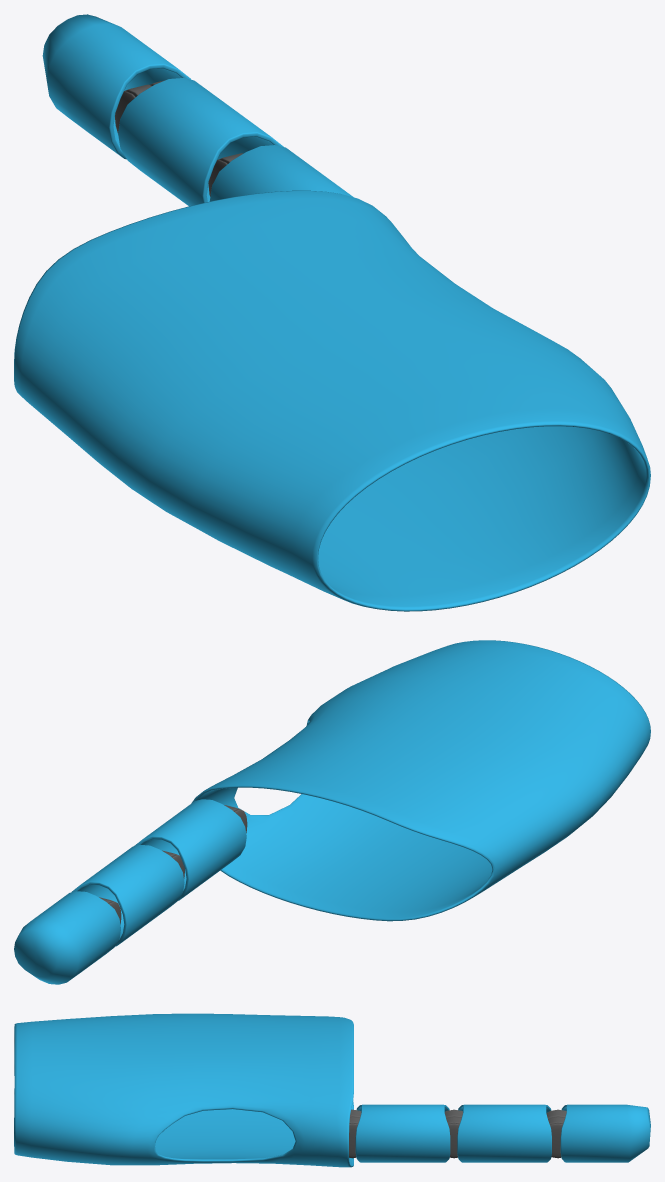
File: RobotHand.fbx
The picture shows the model from 3 angles, top to bottom: view 1: azimuth 30°, elevation 25°; view 2: azimuth 150°, elevation 25°; view 3: azimuth 270°, elevation 25°; orthographic projection. The views are drawn at different scales.
Parts seen in each view (by area): view 1: HandBody, Finger0_1, Finger0_2, Finger0_0; view 2: HandBody, Finger0_2, Finger0_1, Finger0_0; view 3: HandBody, Finger0_0, Finger0_1, Finger0_2, Motor0_2, Motor0_1, Motor0_0.
Part boxes in pixels (x1,y1,x2,y2): HandBody: [14, 190, 650, 611]; Finger0_1: [118, 78, 283, 206]; Finger0_2: [42, 14, 190, 159]; Finger0_0: [210, 145, 353, 201]; HandBody: [191, 640, 650, 921]; Finger0_2: [14, 891, 120, 984]; Finger0_1: [71, 845, 184, 946]; Finger0_0: [134, 799, 246, 900]; HandBody: [14, 1013, 353, 1167]; Finger0_0: [355, 1104, 450, 1162]; Finger0_1: [457, 1104, 551, 1162]; Finger0_2: [560, 1104, 650, 1162]; Motor0_2: [546, 1109, 566, 1158]; Motor0_1: [444, 1109, 462, 1158]; Motor0_0: [349, 1109, 361, 1158].
Bounding box in the file's own units: 203 × 77.03 × 463.
